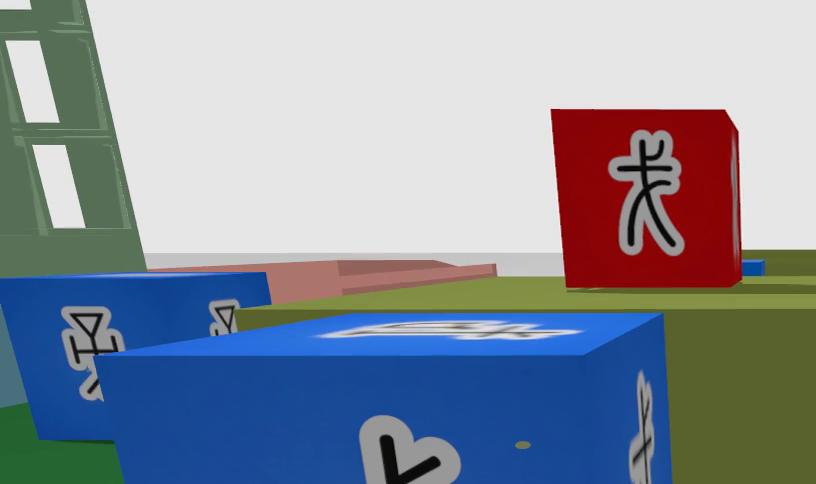KFS_FAKE: (553, 109, 742, 288), (608, 129, 683, 255)
KFS_REAL: (102, 311, 675, 484), (0, 272, 269, 439), (358, 416, 460, 484), (629, 371, 654, 484)
